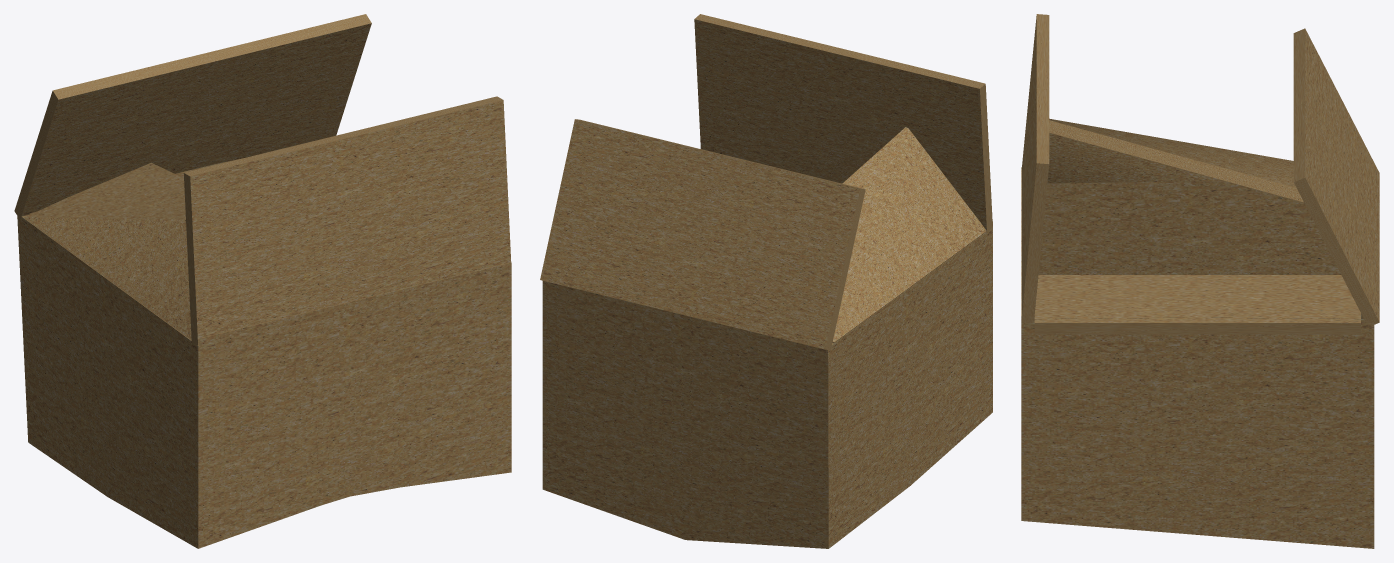
File: cardboardbox.FBX
The picture shows the model from 3 angles, left to right: view 1: azimuth 30°, elevation 25°; view 2: azimuth 150°, elevation 25°; view 3: azimuth 270°, elevation 25°; orthographic projection. The views are drawn at different scales.
Visible parts, largest first — view 1: cardboardbox, cover3, cover2, cover; view 2: cardboardbox, cover2, cover3, cover; view 3: cardboardbox, cover4, cover2, cover, cover3.
Boxes of the visible parts, x1=… form: cardboardbox: x1=17, y1=159, x2=511, y2=548; cover3: x1=183, y1=96, x2=511, y2=345; cover2: x1=14, y1=14, x2=371, y2=219; cover: x1=24, y1=162, x2=191, y2=340; cardboardbox: x1=542, y1=221, x2=992, y2=548; cover2: x1=540, y1=119, x2=865, y2=350; cover3: x1=694, y1=14, x2=992, y2=231; cover: x1=832, y1=127, x2=986, y2=343; cardboardbox: x1=1021, y1=167, x2=1374, y2=548; cover4: x1=1034, y1=275, x2=1360, y2=334; cover2: x1=1293, y1=28, x2=1379, y2=326; cover: x1=1047, y1=118, x2=1303, y2=202; cover3: x1=1021, y1=14, x2=1049, y2=323.
Bounding box in the file's own units: 56.05 × 70.44 × 56.87.
Materials: 1 (1 with a texture image).
